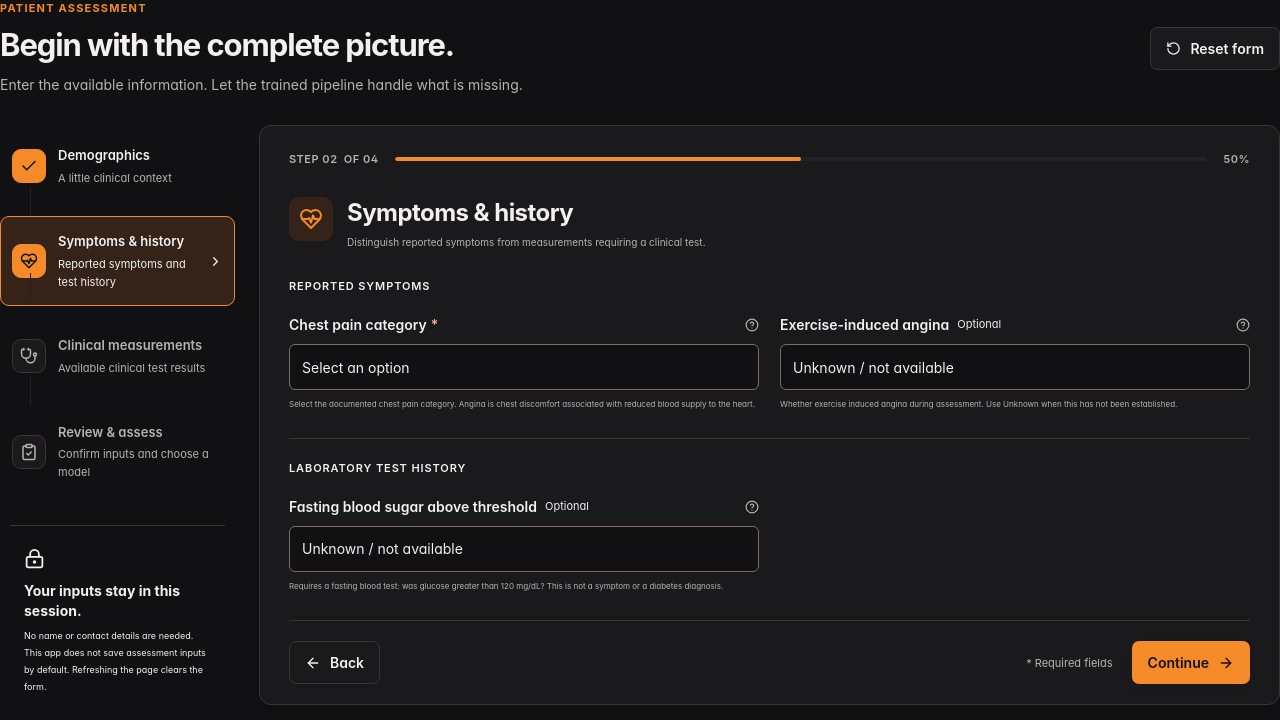
four-step assessment integration › validates steps, retains entered fields on Back, and sends exact JSON through the real API client
Earlier steps of the test are not shown.
Later steps or results of the test are not shown.
Expected: the heading "Symptoms & history" is shown, [347,198,573,227]
Click the button "Continue": click(1191, 663) [1132,641,1250,684]
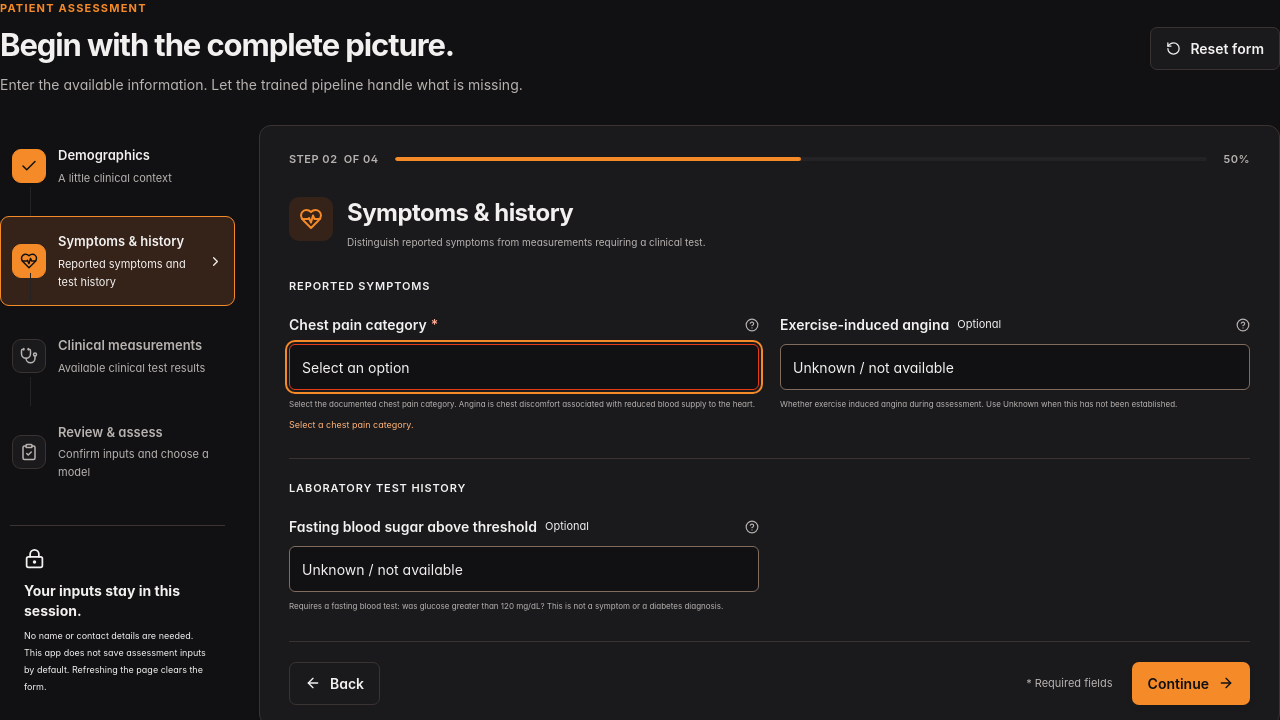
Result: the text "Select a chest pain category." is shown at [289,418,414,430]
Select "Atypical angina" in the dropdown labelled "Chest pain category *": (524, 367) [289,344,759,390]
Select "Yes" in the dropdown labelled "Exercise-induced angina Optional": (1015, 367) [780,344,1250,390]
Select "No — 120 mg/dL or below" in the dropdown labelled "Fasting blood sugar above threshold Optional": (524, 569) [289,546,759,592]
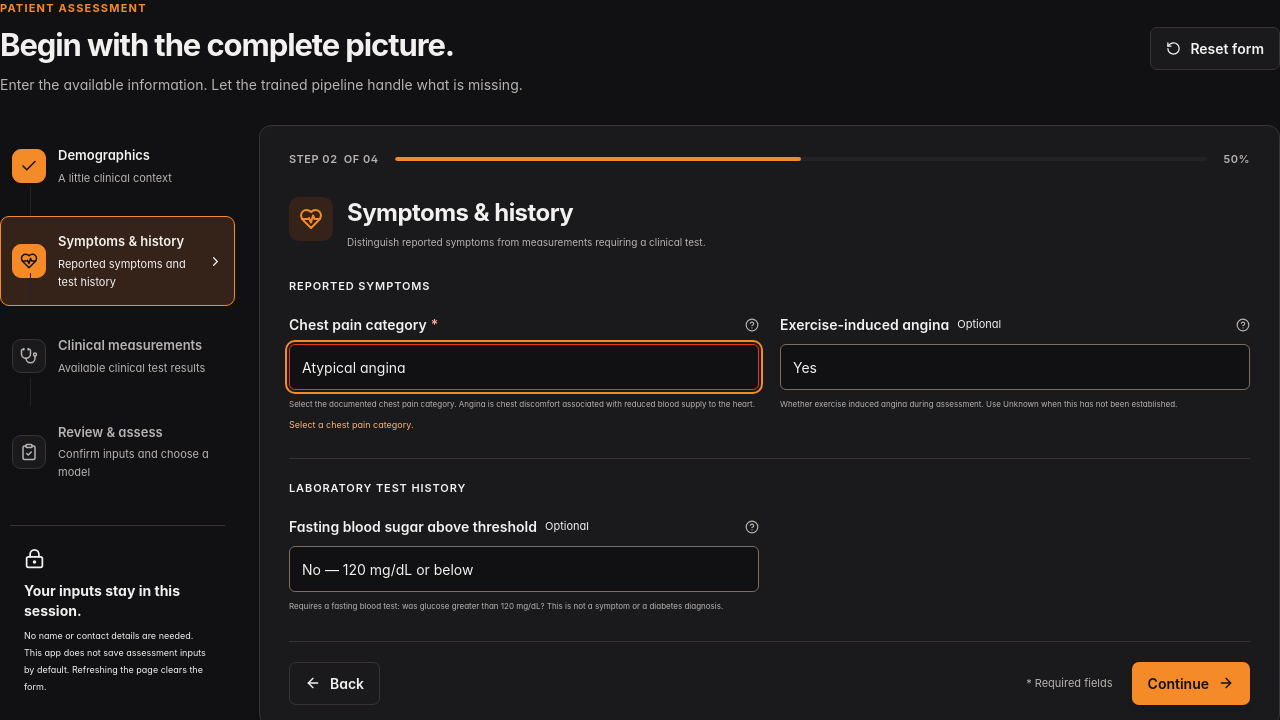
Click the button "Continue": click(1191, 683) [1132,662,1250,705]
(page scrolled)
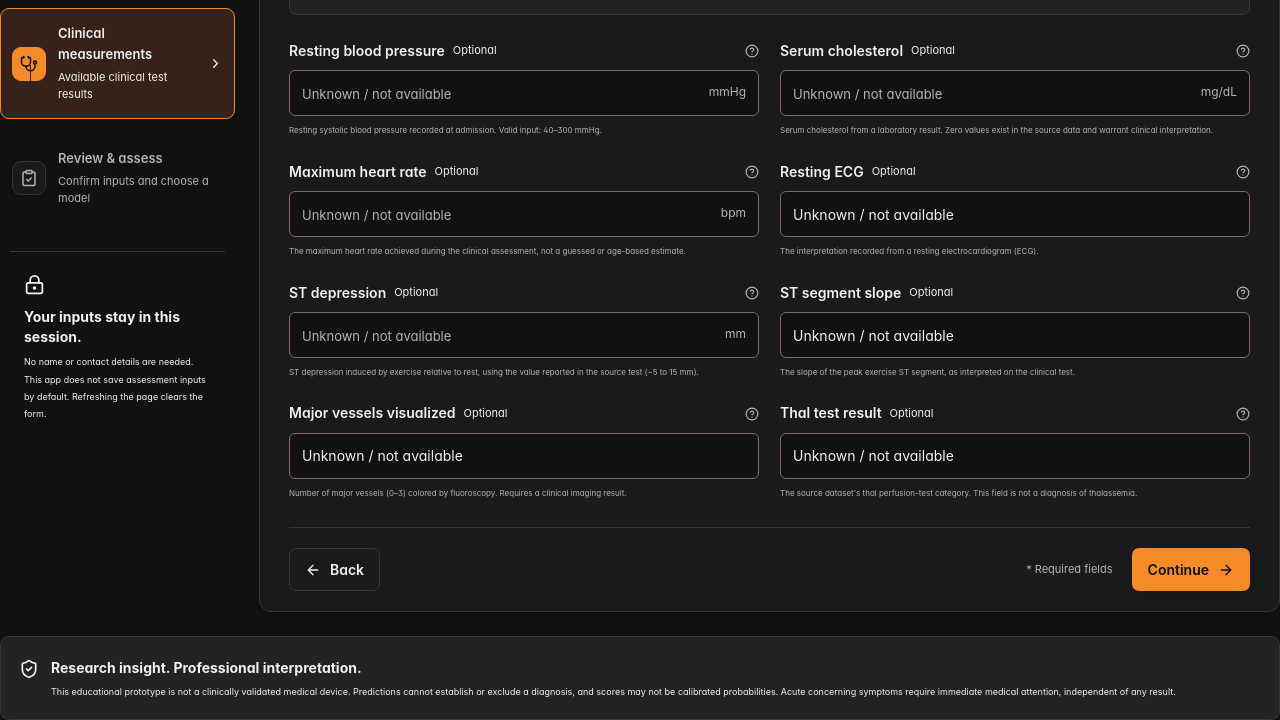
Select "Reversible defect" in the dropdown labelled "Thal test result Optional": (1015, 456) [780,433,1250,479]
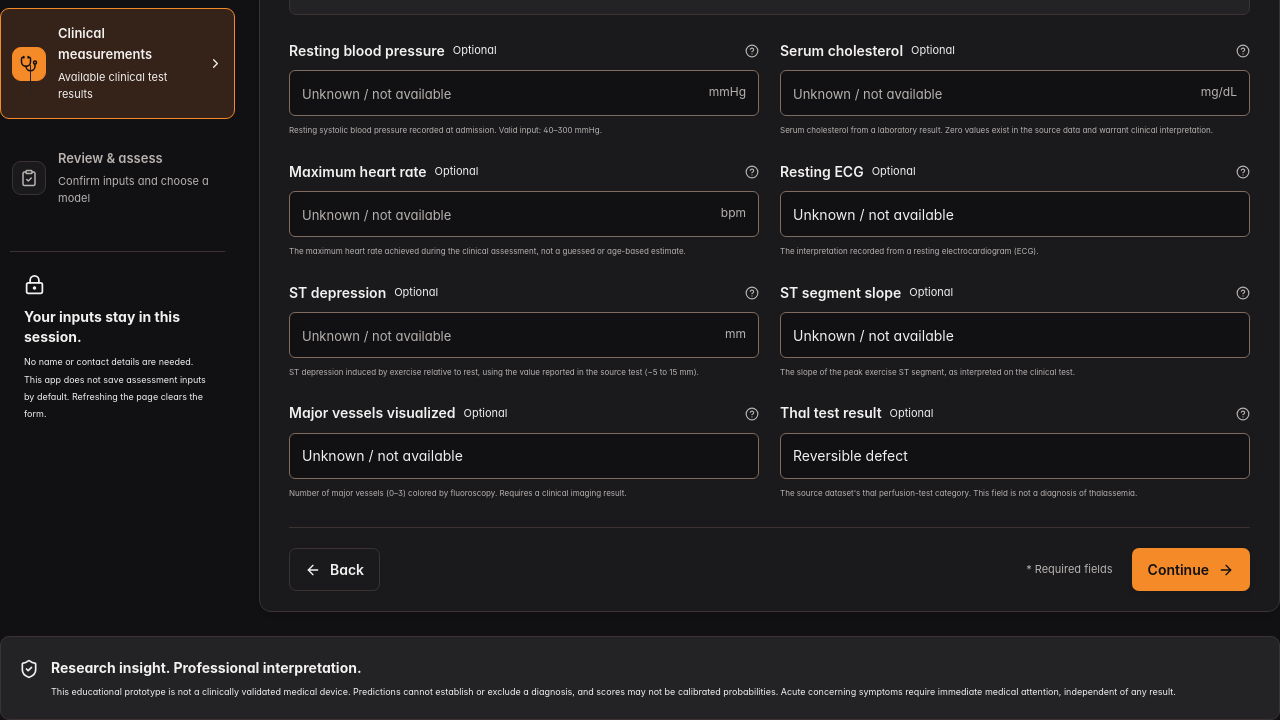
Select "0" in the dropdown labelled "Major vessels visualized Optional": (524, 456) [289,433,759,479]
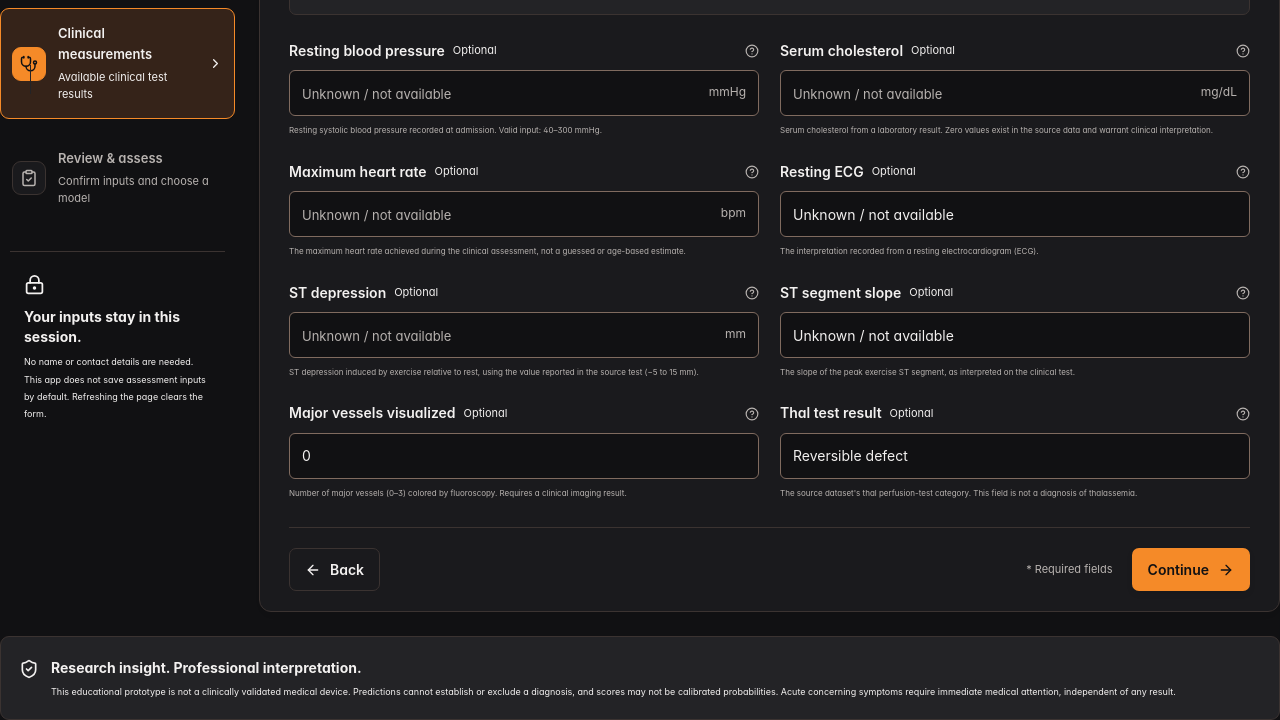
Click the button "Back": click(335, 570) [289,548,380,591]
(page scrolled)
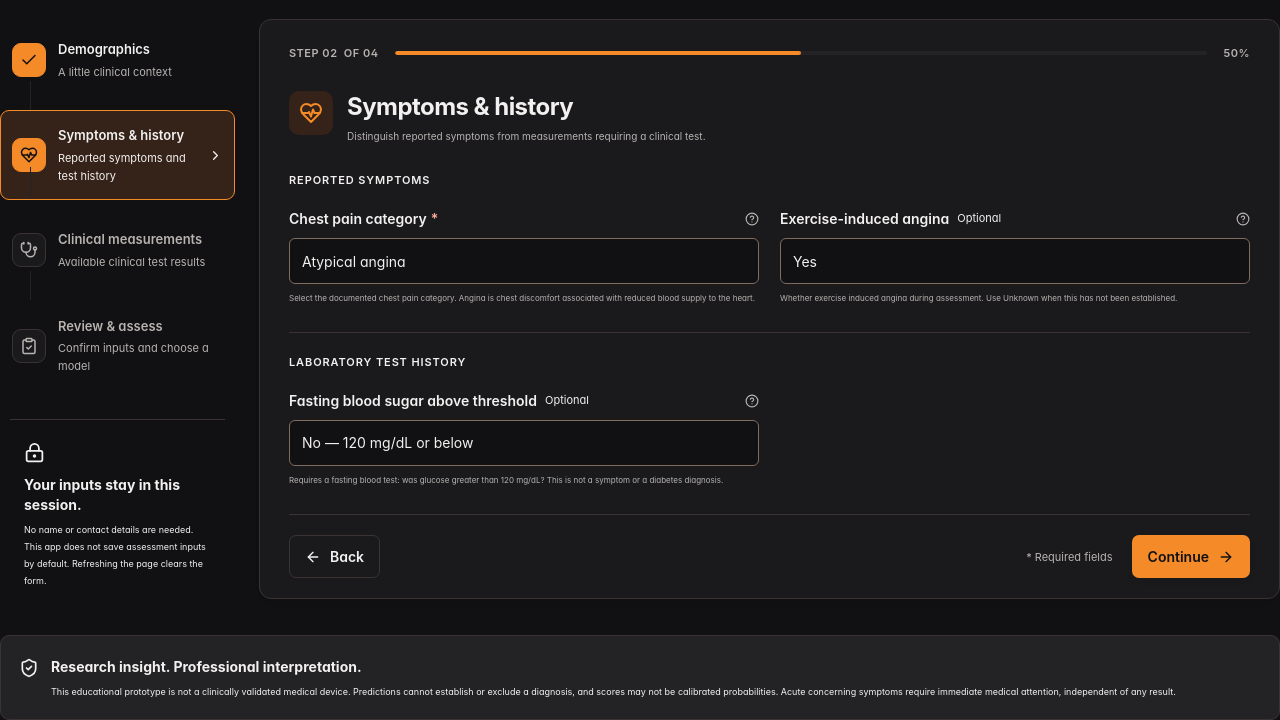
Result: the heading "Symptoms & history" is shown at [347,92,573,121]
Result: the dropdown labelled "Chest pain category *" shows "Atypical angina" at [289,238,759,284]
Result: the dropdown labelled "Exercise-induced angina Optional" shows "Yes" at [780,238,1250,284]
